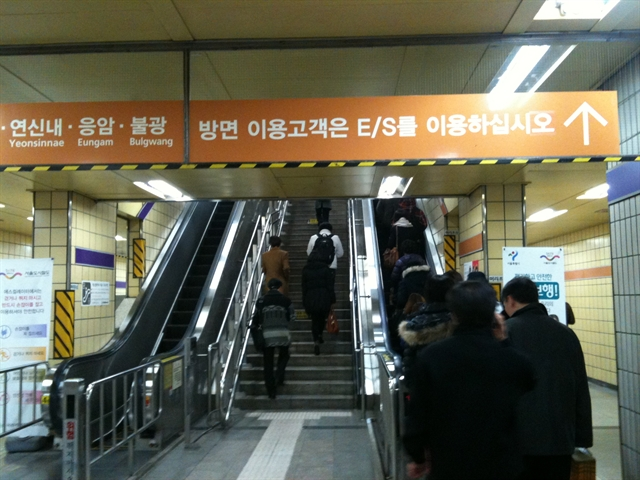person: (409, 278, 528, 476), (492, 275, 596, 480), (256, 279, 294, 400), (302, 256, 334, 357), (255, 235, 293, 297), (301, 224, 343, 259)
stairs: (231, 361, 360, 424)
